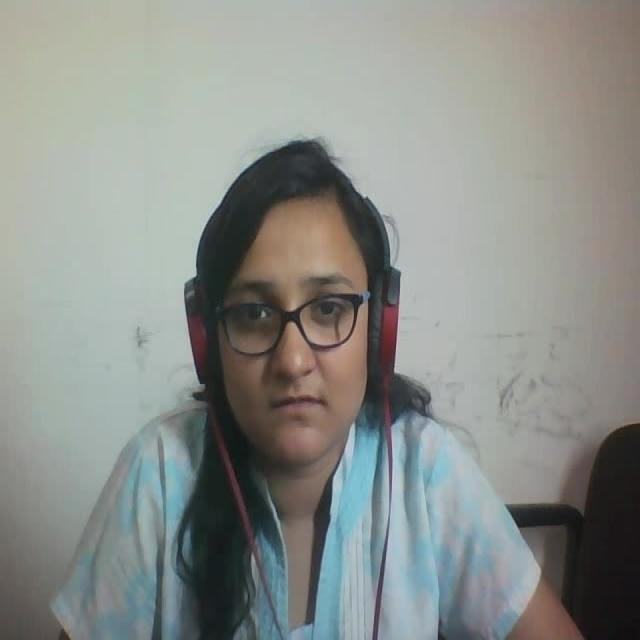Engaged: (166, 107, 419, 468)
